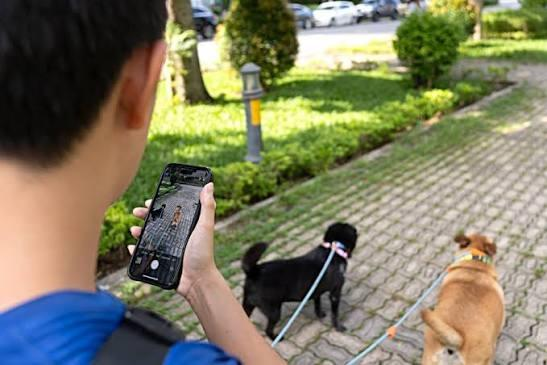adult_dog: (242, 221, 358, 341), (420, 228, 506, 365)
non-dog: (0, 0, 289, 364)
